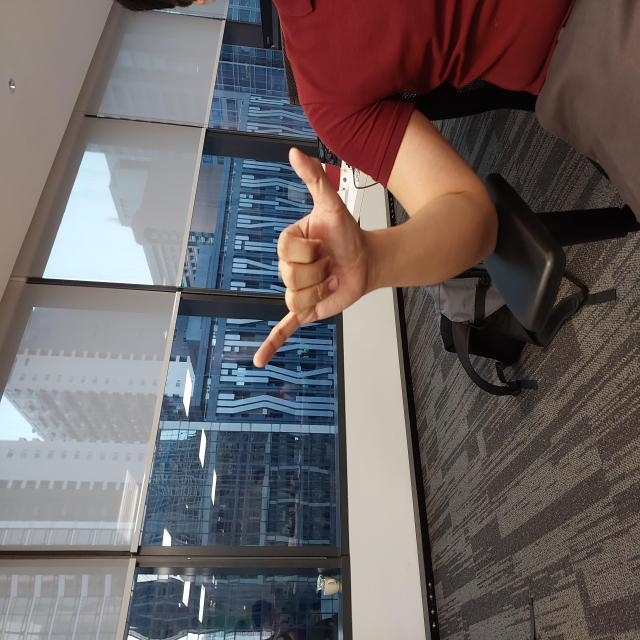Y: (271, 251, 497, 373)
